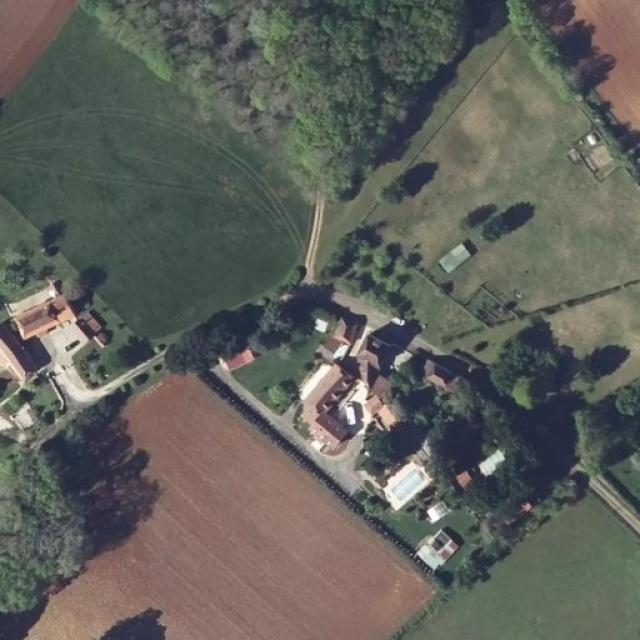maison: (290, 358, 360, 450), (352, 325, 393, 384), (4, 291, 64, 330), (0, 322, 28, 382), (372, 390, 413, 430), (423, 372, 462, 401)
piscine: (380, 466, 428, 506)
